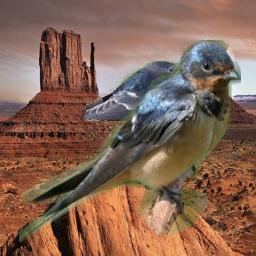Swallow: (19, 40, 241, 242), (86, 60, 182, 121)
